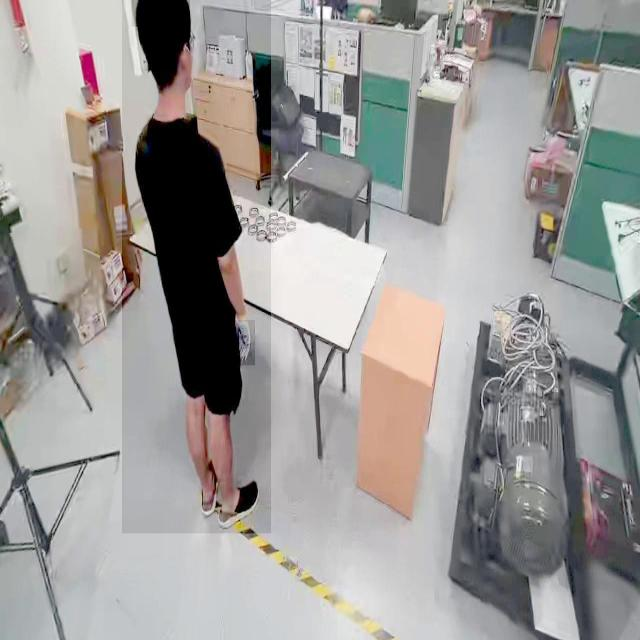hand_glove: (234, 320, 256, 366)
head_nohelmet: (132, 0, 190, 28)
person: (122, 0, 272, 534)
shoes: (216, 476, 262, 531), (197, 451, 226, 519)
